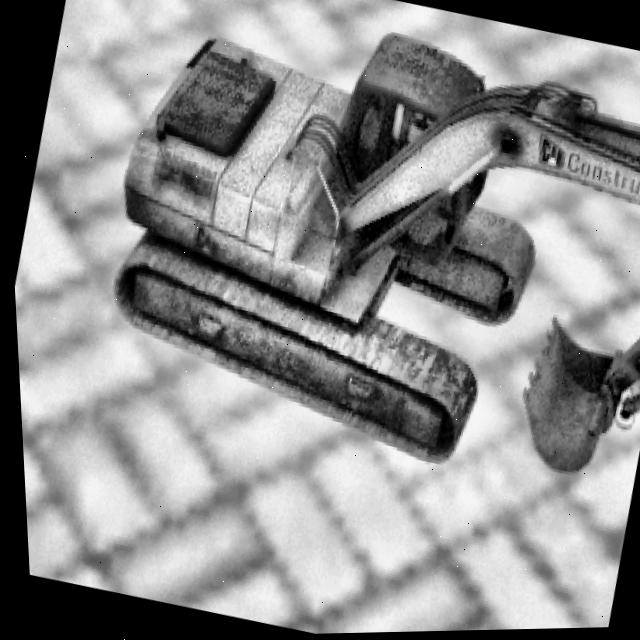excavator: (63, 0, 640, 513)
